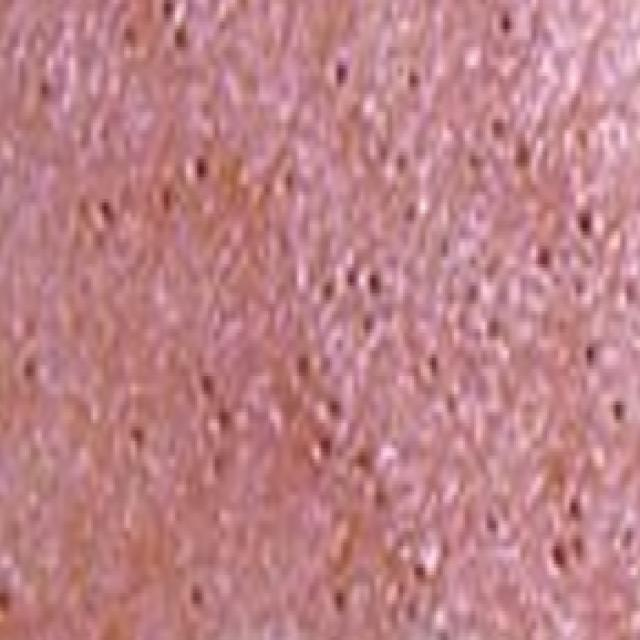blackhead: (76, 193, 108, 260), (206, 403, 231, 440), (336, 529, 356, 573), (330, 581, 350, 621), (509, 134, 530, 170), (318, 270, 336, 310), (610, 391, 628, 429), (488, 111, 508, 145), (550, 538, 568, 575), (315, 428, 333, 464), (405, 591, 423, 627), (532, 242, 552, 274), (424, 347, 442, 382), (294, 348, 312, 383), (351, 444, 372, 474), (332, 57, 349, 94), (120, 25, 136, 64), (0, 575, 13, 622), (371, 479, 387, 517), (188, 580, 208, 610), (198, 369, 216, 402), (209, 450, 226, 484), (572, 122, 590, 154), (569, 530, 585, 566), (99, 196, 117, 228), (616, 522, 635, 552), (485, 252, 501, 287), (365, 267, 383, 298), (566, 492, 584, 522), (324, 391, 342, 421), (577, 205, 593, 238), (404, 64, 420, 96), (414, 560, 432, 588), (402, 197, 418, 227), (485, 508, 500, 540), (483, 318, 500, 346), (359, 308, 373, 342), (128, 424, 142, 458), (159, 183, 173, 217), (23, 355, 38, 386), (498, 8, 514, 37), (437, 532, 452, 562), (194, 155, 209, 185), (394, 150, 408, 182), (432, 554, 445, 588), (375, 138, 389, 168), (173, 25, 187, 55), (96, 120, 110, 150), (437, 230, 449, 264), (160, 0, 177, 24), (624, 278, 636, 310), (465, 283, 481, 307), (585, 338, 596, 372), (38, 78, 52, 104), (444, 279, 456, 309), (572, 276, 586, 300), (345, 262, 356, 291), (467, 148, 479, 173), (455, 311, 466, 338), (284, 170, 294, 199), (445, 395, 456, 420), (550, 269, 562, 291), (466, 252, 477, 272)
